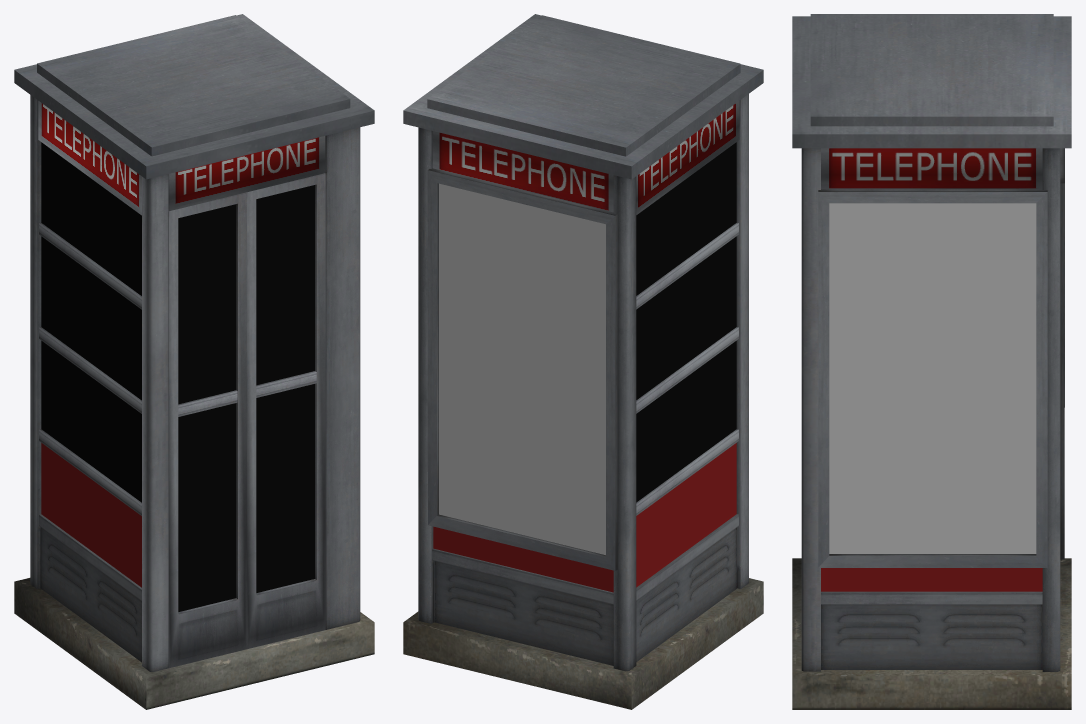
The model's file is PhoneBooth.dae.
3 renders of one model, left to right at view 1: azimuth 30°, elevation 25°; view 2: azimuth 150°, elevation 25°; view 3: azimuth 270°, elevation 25°, orthographic. The views are drawn at different scales.
Parts seen in each view (by area): view 1: PhoneBooth, PhoneBoothglass; view 2: PhoneBooth, PhoneBoothposter, PhoneBoothglass; view 3: PhoneBooth, PhoneBoothposter.
Boxes of the visible parts, x1=… form: PhoneBooth: x1=14, y1=14, x2=374, y2=709; PhoneBoothglass: x1=41, y1=142, x2=314, y2=611; PhoneBooth: x1=403, y1=14, x2=763, y2=709; PhoneBoothposter: x1=439, y1=183, x2=605, y2=555; PhoneBoothglass: x1=636, y1=142, x2=736, y2=502; PhoneBooth: x1=792, y1=14, x2=1071, y2=709; PhoneBoothposter: x1=829, y1=203, x2=1036, y2=553.
Bounding box in the file's own units: 1.95 × 1.95 × 4.51.
Materials: 3 (2 with a texture image).
